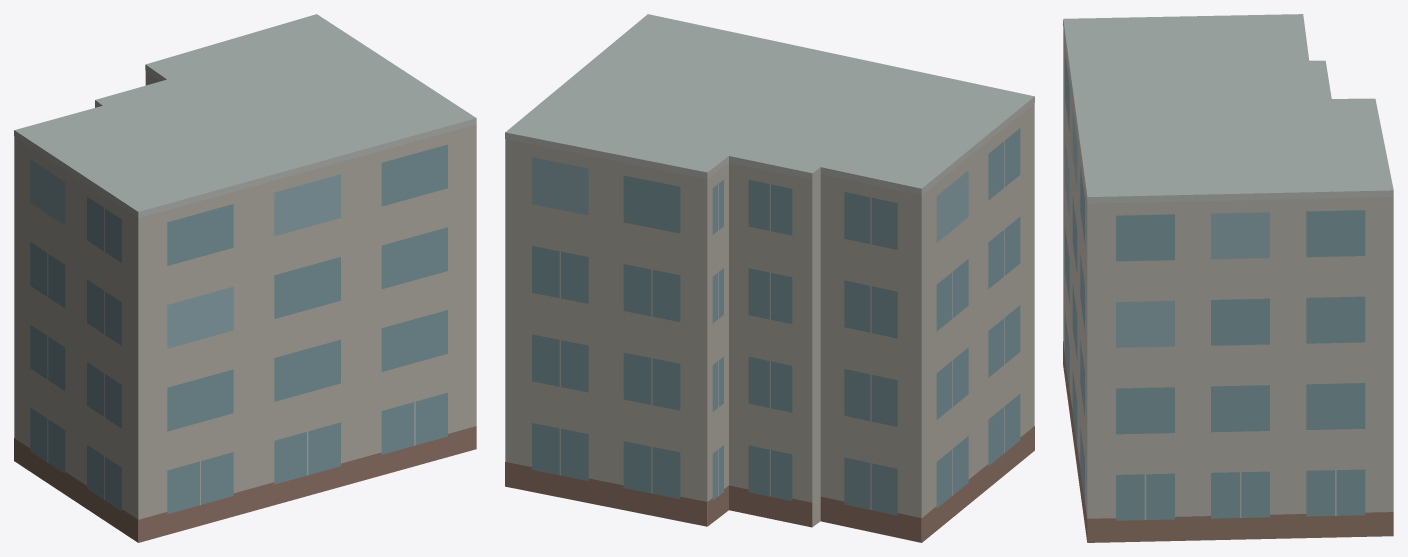
Rendered from survey-upis-32671949.glb.
The picture shows the model from 3 angles, left to right: view 1: azimuth 30°, elevation 25°; view 2: azimuth 150°, elevation 25°; view 3: azimuth 270°, elevation 25°; orthographic projection. The views are drawn at different scales.
Parts seen in each view (by area): view 1: survey-upis-32671949.tmp; view 2: survey-upis-32671949.tmp; view 3: survey-upis-32671949.tmp.
Boxes of the visible parts, box(x1,y1,x2,y2) form: survey-upis-32671949.tmp: box(14, 14, 476, 542); survey-upis-32671949.tmp: box(505, 14, 1034, 542); survey-upis-32671949.tmp: box(1063, 14, 1393, 542).
Size of the model in its own units: 14.55 by 12.8 by 11.1.
